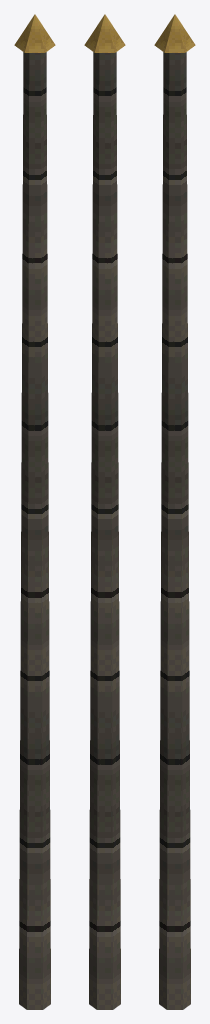
File: mastil.obj
The picture shows the model from 3 angles, left to right: view 1: azimuth 90°, elevation 25°; view 2: azimuth 150°, elevation 25°; view 3: azimuth 270°, elevation 25°; orthographic projection.
Visible parts, largest first — view 1: mastil; view 2: mastil; view 3: mastil.
Part boxes in pixels (x1,y1,x2,y2): mastil: [14, 14, 55, 1009]; mastil: [84, 14, 125, 1009]; mastil: [154, 14, 195, 1009].
Bounding box in the file's own units: 0.1559 × 4.75 × 0.18.
Materials: 2 (2 with a texture image).
